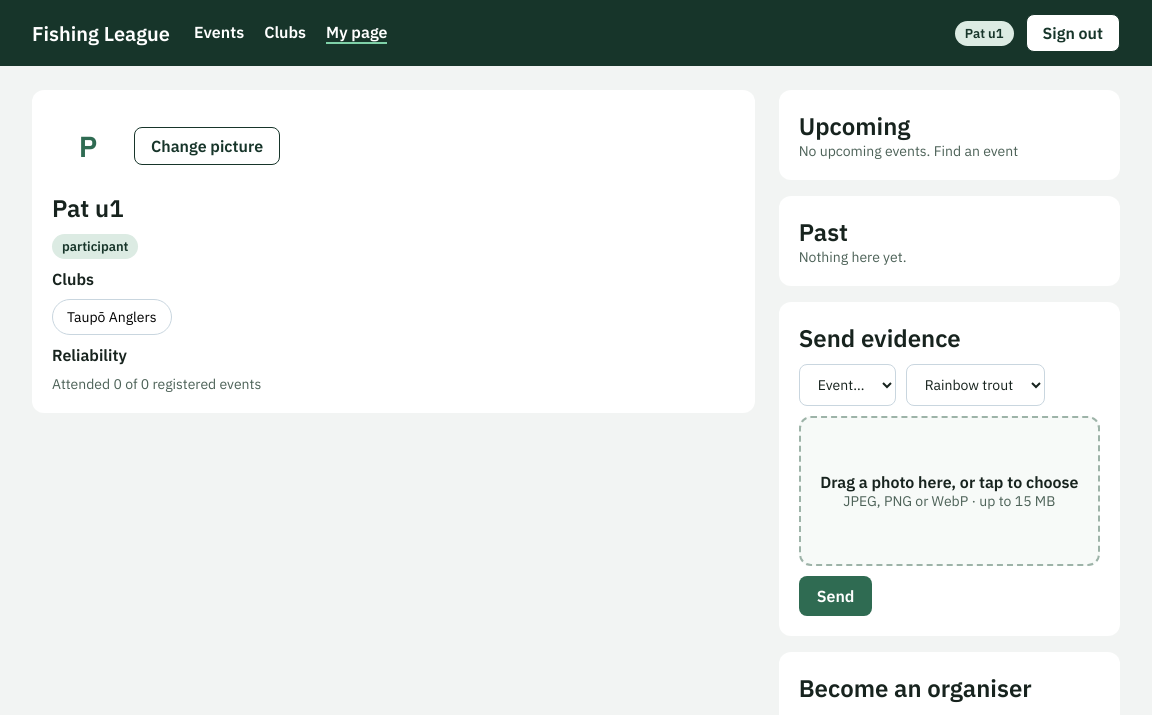
Scenario: changing my own picture › cancel leaves everything as it was
Click the button "Change picture". click: coordinates (207, 146)
box: x1=134 y1=127 x2=280 y2=165
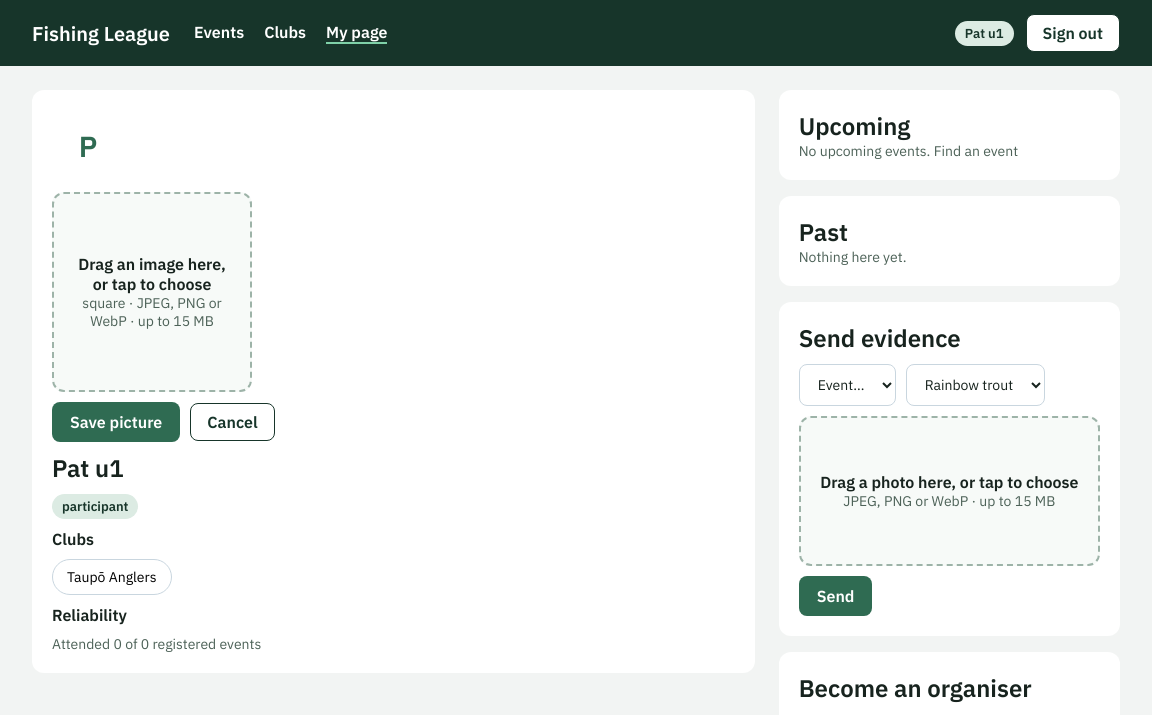
Click the button "Cancel". click: coordinates (232, 422)
box: x1=190 y1=403 x2=275 y2=441
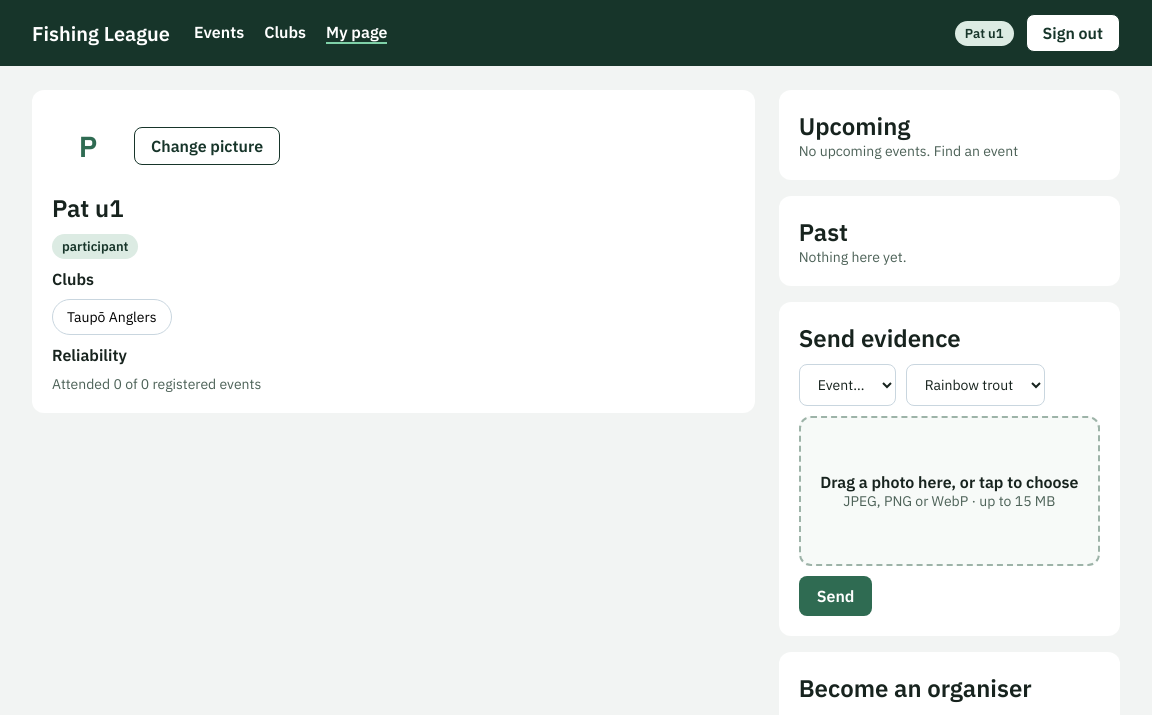
Result: the button "Save picture" is gone
